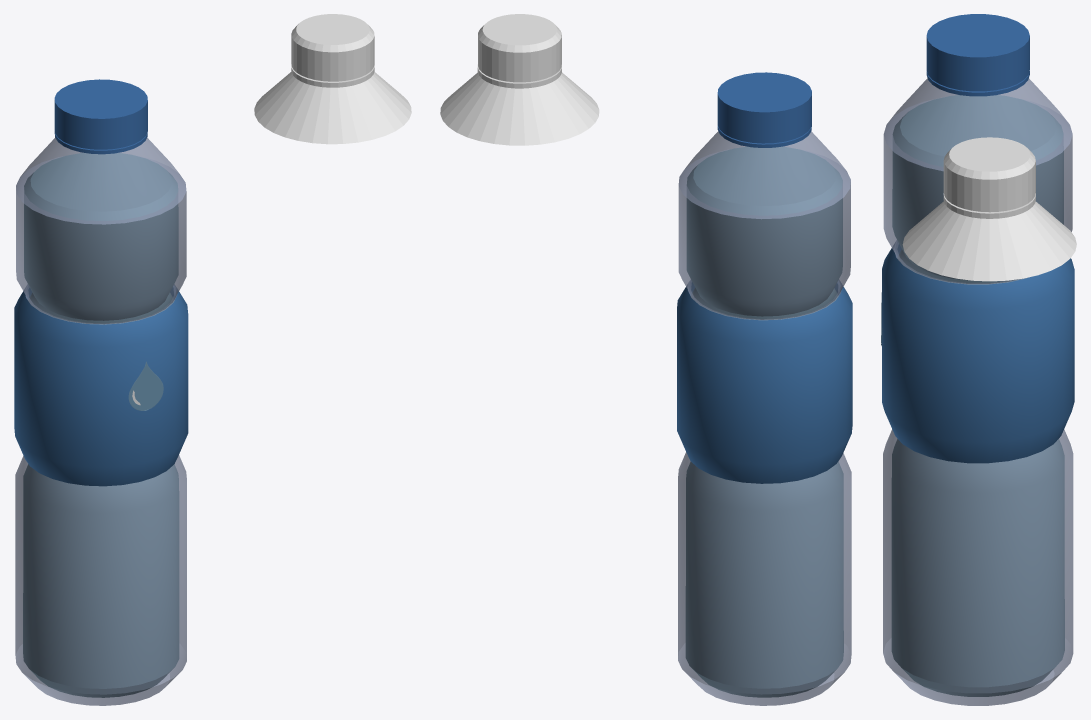
Rendered from WaterBottle.fbx.
3 views of the same model, side by side, from view 1: azimuth 30°, elevation 25°; view 2: azimuth 150°, elevation 25°; view 3: azimuth 270°, elevation 25° (orthographic). The views are drawn at different scales.
Visible parts, largest first — view 1: Cylinder.002, Cylinder.001; view 2: Cylinder.002, Cylinder.001; view 3: Cylinder.002, Cylinder.001.
Boxes of the visible parts, <box> form: Cylinder.002: <box>14,79,188,705</box>; Cylinder.001: <box>254,14,411,144</box>; Cylinder.002: <box>677,72,852,705</box>; Cylinder.001: <box>440,14,599,145</box>; Cylinder.002: <box>881,14,1074,705</box>; Cylinder.001: <box>902,137,1076,281</box>.
Size of the model in its own units: 7.15 by 10.52 by 2.89.
